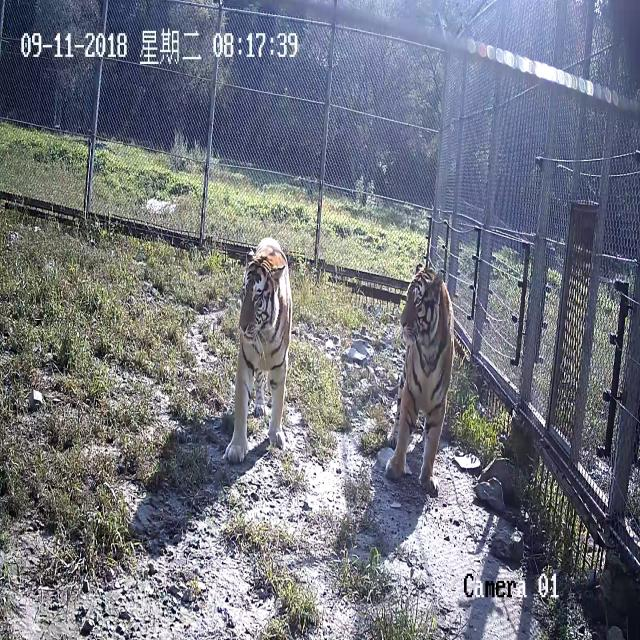Tiger: (217, 225, 313, 482), (377, 238, 466, 507)
